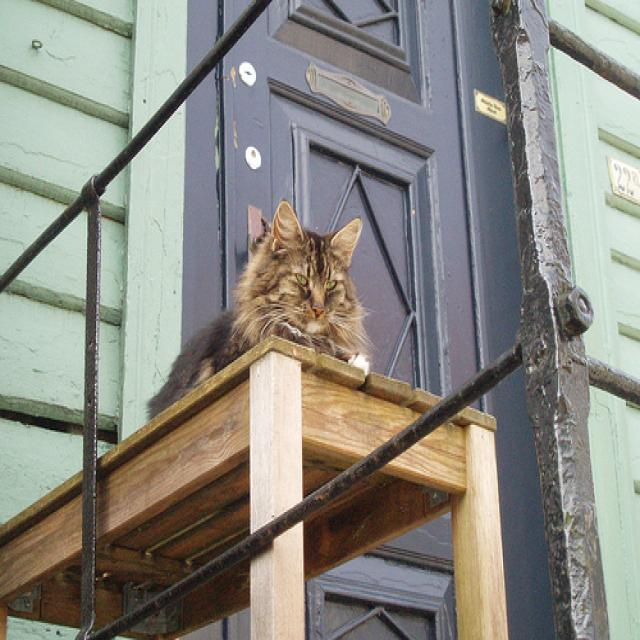cat: (147, 197, 373, 421)
